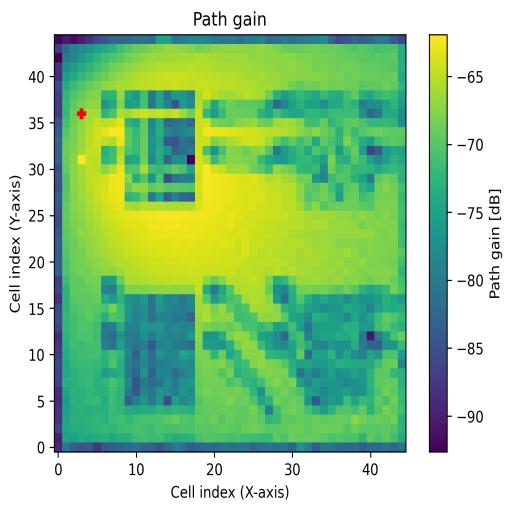Concrete: (296, 90, 375, 210)
Glass: (125, 90, 196, 200)
Metal: (297, 295, 374, 415)
Wood: (125, 295, 196, 406)
